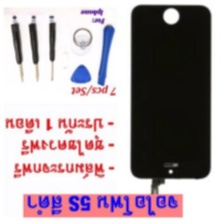phone: (128, 2, 214, 181)
